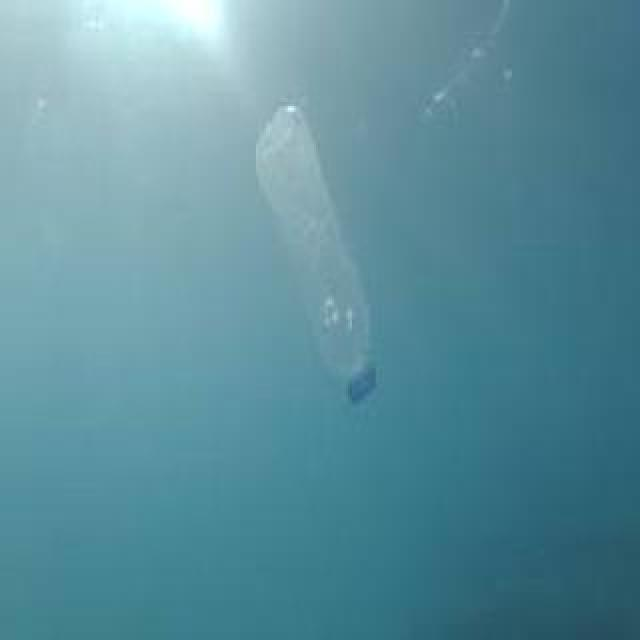Pet_Bottle: (250, 93, 384, 415)
